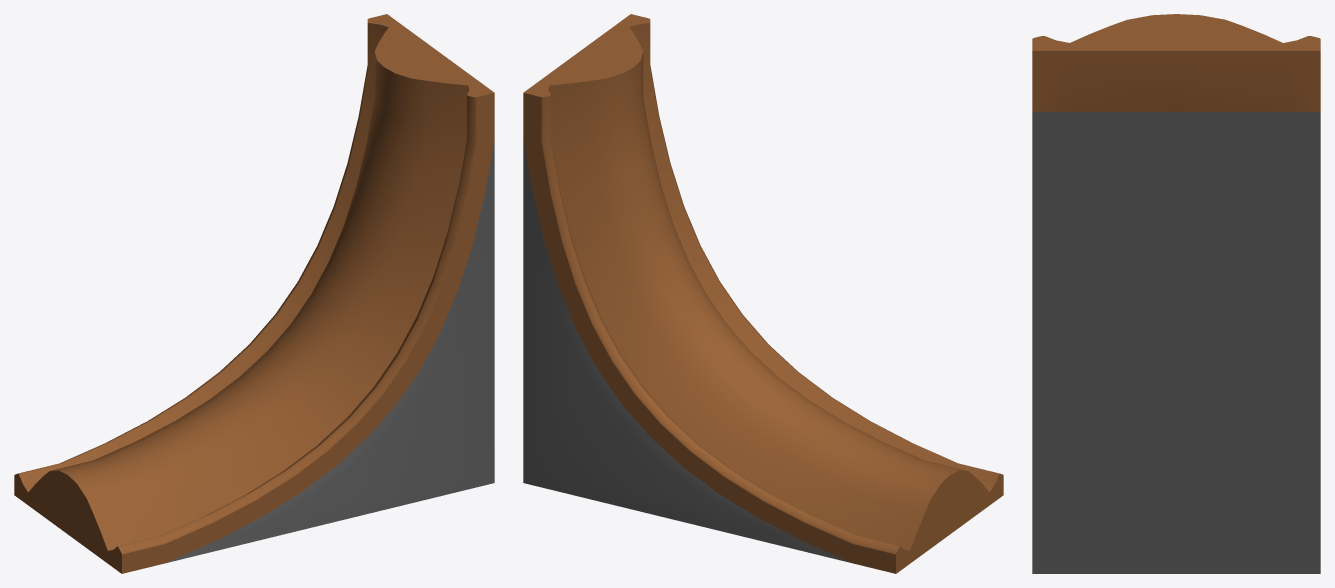
File: 036_038_040_wall_deco_round_corner_no_wood_gray.glb
3 views of the same model, side by side, from view 1: azimuth 30°, elevation 25°; view 2: azimuth 150°, elevation 25°; view 3: azimuth 270°, elevation 25° (orthographic). The views are drawn at different scales.
Parts seen in each view (by area): view 1: deco, wall; view 2: deco, wall; view 3: wall, deco.
Boxes of the visible parts, x1=… form: deco: x1=14, y1=14, x2=494, y2=573; wall: x1=167, y1=140, x2=494, y2=562; deco: x1=523, y1=14, x2=1003, y2=573; wall: x1=523, y1=140, x2=850, y2=562; wall: x1=1032, y1=112, x2=1320, y2=573; deco: x1=1032, y1=14, x2=1320, y2=111.
Bounding box in the file's own units: 1.5 × 1.5 × 0.75.
